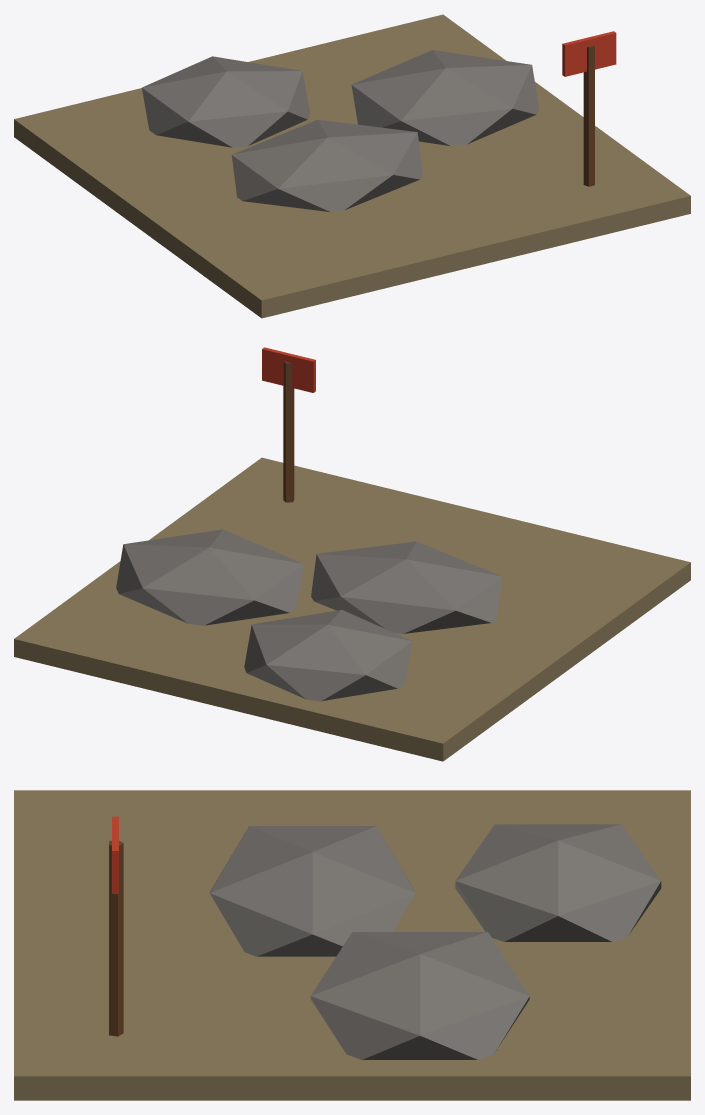
The model's file is Deposit_Tin_Depleted.fbx.
The picture shows the model from 3 angles, top to bottom: view 1: azimuth 30°, elevation 25°; view 2: azimuth 150°, elevation 25°; view 3: azimuth 270°, elevation 25°; orthographic projection. The views are drawn at different scales.
Visible parts, largest first — view 1: Deposit_Tin_Depleted_Body; view 2: Deposit_Tin_Depleted_Body; view 3: Deposit_Tin_Depleted_Body.
Boxes of the visible parts, left/top/right/bottom form: Deposit_Tin_Depleted_Body: left=14, top=14, right=690, bottom=318; Deposit_Tin_Depleted_Body: left=14, top=347, right=690, bottom=761; Deposit_Tin_Depleted_Body: left=14, top=790, right=690, bottom=1100.
Bounding box in the file's own units: 1 × 0.3754 × 1.
